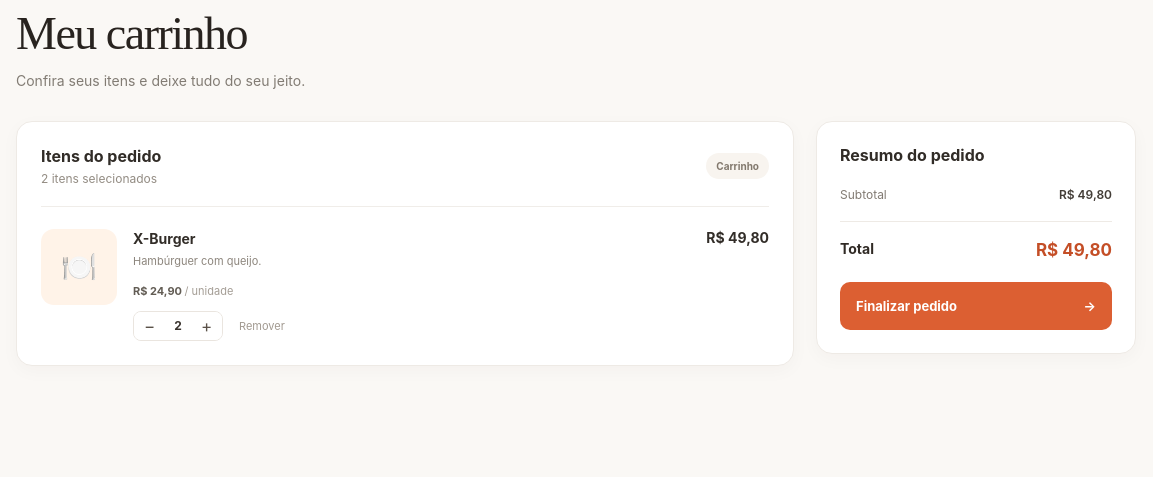
it: Carrinho › envia o pedido, mostra o número retornado e limpa o carrinho após sucesso
This screenshot has width=1153, height=477.
Click the button "Finalizar pedido →".
click(907, 306)  # box top-left (840, 282), bottom-right (1112, 330)
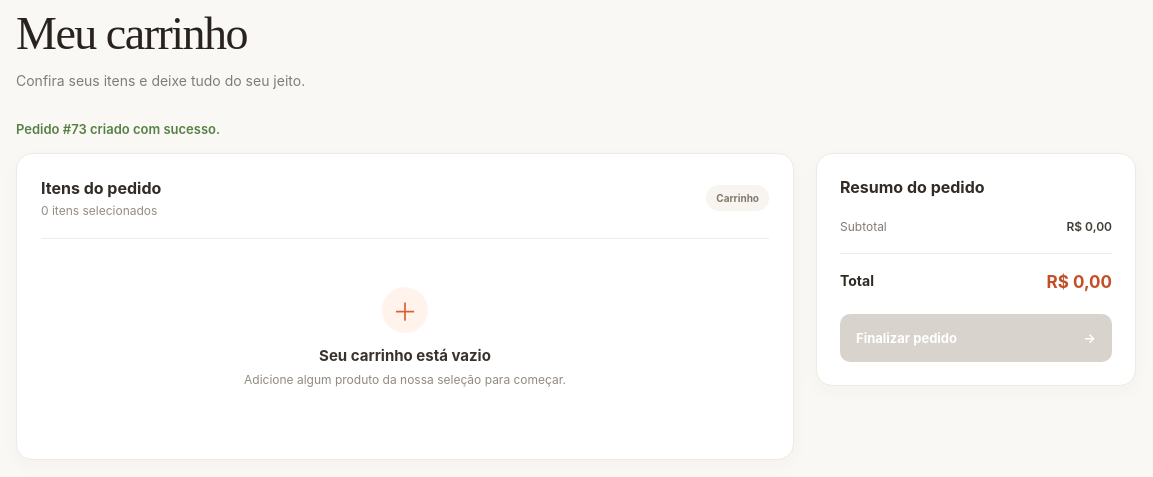
Check: the message reads "Pedido #73 criado com sucesso.", box top-left (16, 121), bottom-right (220, 137)
